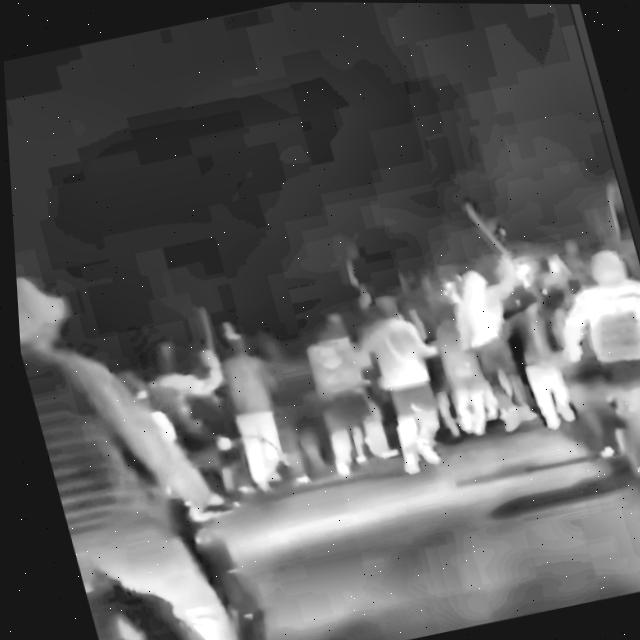robbery: (8, 129, 640, 640)
